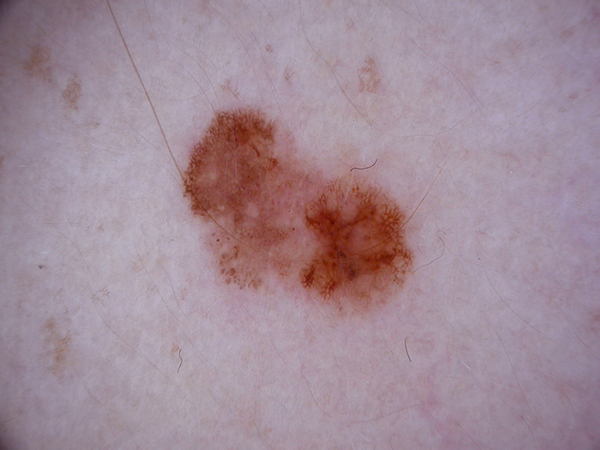Detected Lesion: (170, 99, 423, 316)
